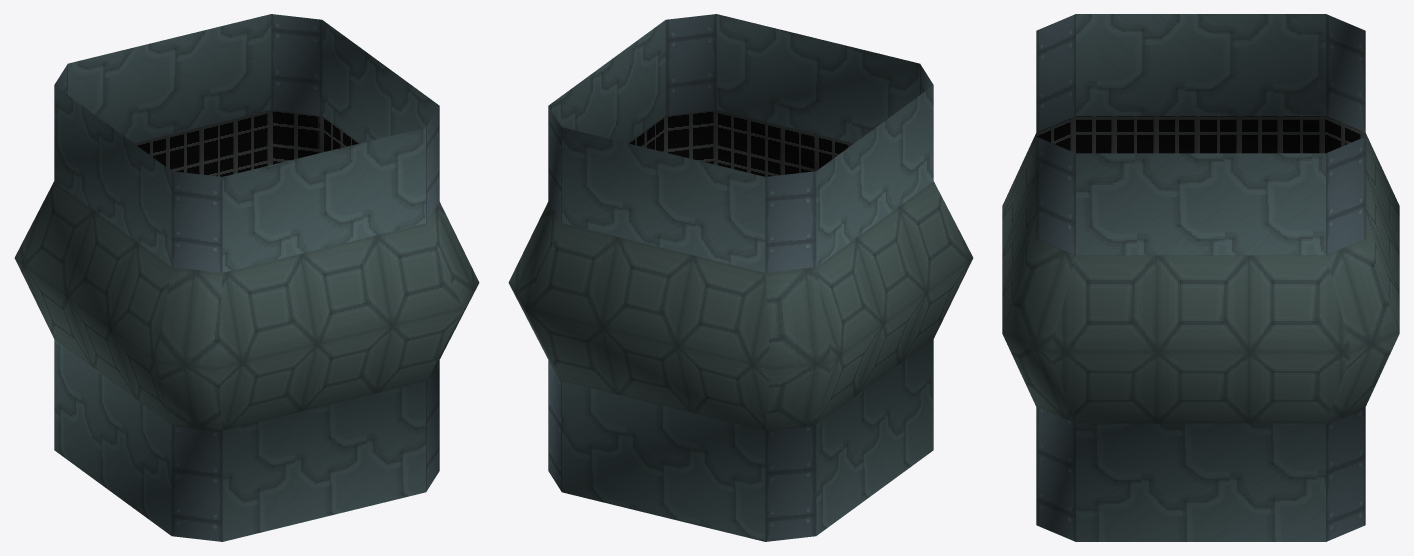
Rendered from RoomBase1.glb.
The picture shows the model from 3 angles, left to right: view 1: azimuth 30°, elevation 25°; view 2: azimuth 150°, elevation 25°; view 3: azimuth 270°, elevation 25°; orthographic projection. The views are drawn at different scales.
Visible parts, largest first — view 1: ONE; view 2: ONE; view 3: ONE.
Part boxes in pixels (x1,y1,x2,y2): ONE: (14, 14, 479, 541); ONE: (508, 14, 973, 541); ONE: (1002, 14, 1399, 541).
Bounding box in the file's own units: 9.02 × 9.74 × 9.02.
Materials: 4 (4 with a texture image).
